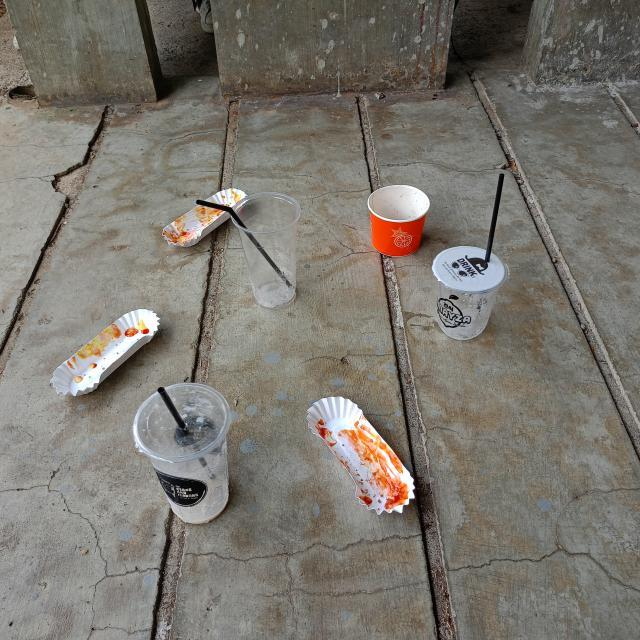recyclable waste: (125, 374, 244, 530), (296, 386, 426, 522), (44, 300, 168, 405), (224, 182, 308, 314), (422, 239, 516, 350), (158, 180, 259, 253), (362, 178, 434, 263)
